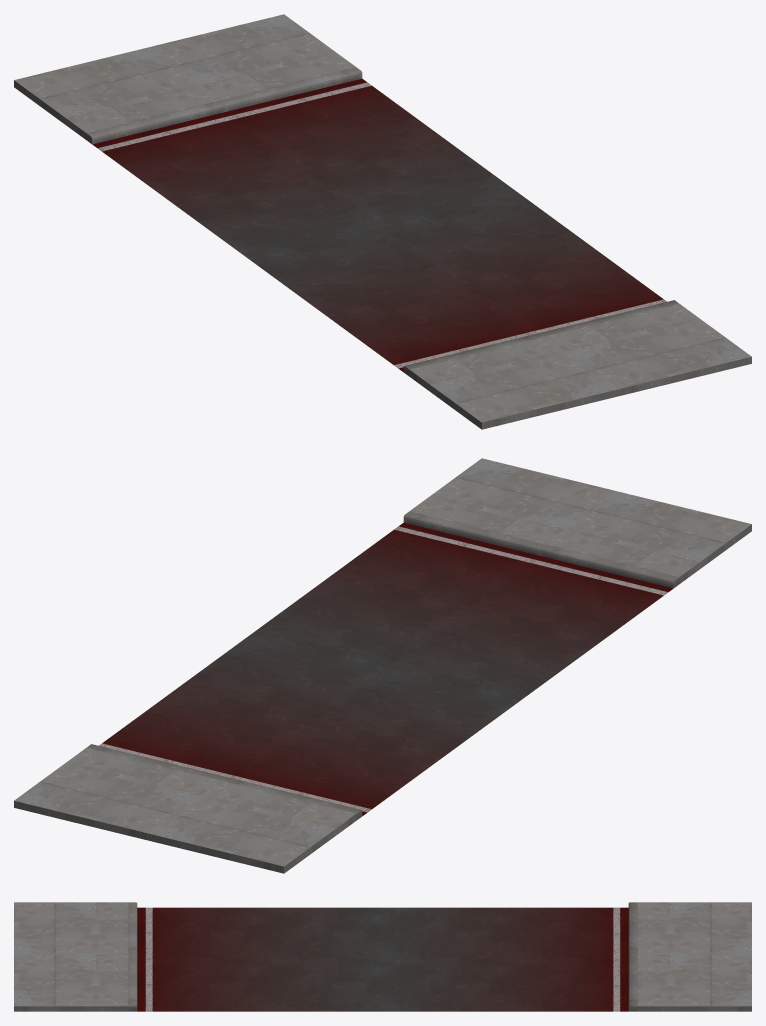
File: Street_4Lane.gltf
3 views of the same model, one above another, from view 1: azimuth 30°, elevation 25°; view 2: azimuth 150°, elevation 25°; view 3: azimuth 270°, elevation 25° (orthographic). The views are drawn at different scales.
Parts seen in each view (by area): view 1: Street_4Lane; view 2: Street_4Lane; view 3: Street_4Lane.
Boxes of the visible parts, <box> form: Street_4Lane: <box>14,14,751,429</box>; Street_4Lane: <box>14,458,751,873</box>; Street_4Lane: <box>14,902,751,1011</box>.
Size of the model in its own units: 6 by 0.1505 by 18.
Materials: 3 (3 with a texture image).
